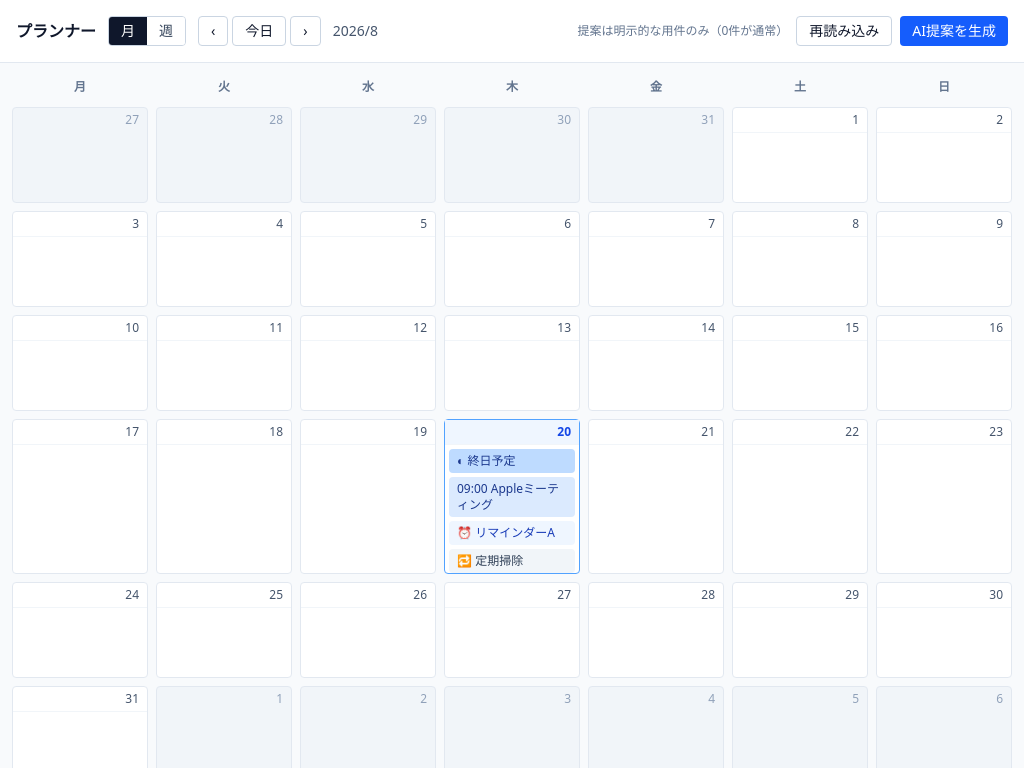
Test: PlannerPage › generates proposals via the generate button
Click the button "AI提案を生成".
click(954, 31)  # box [900, 16, 1008, 46]
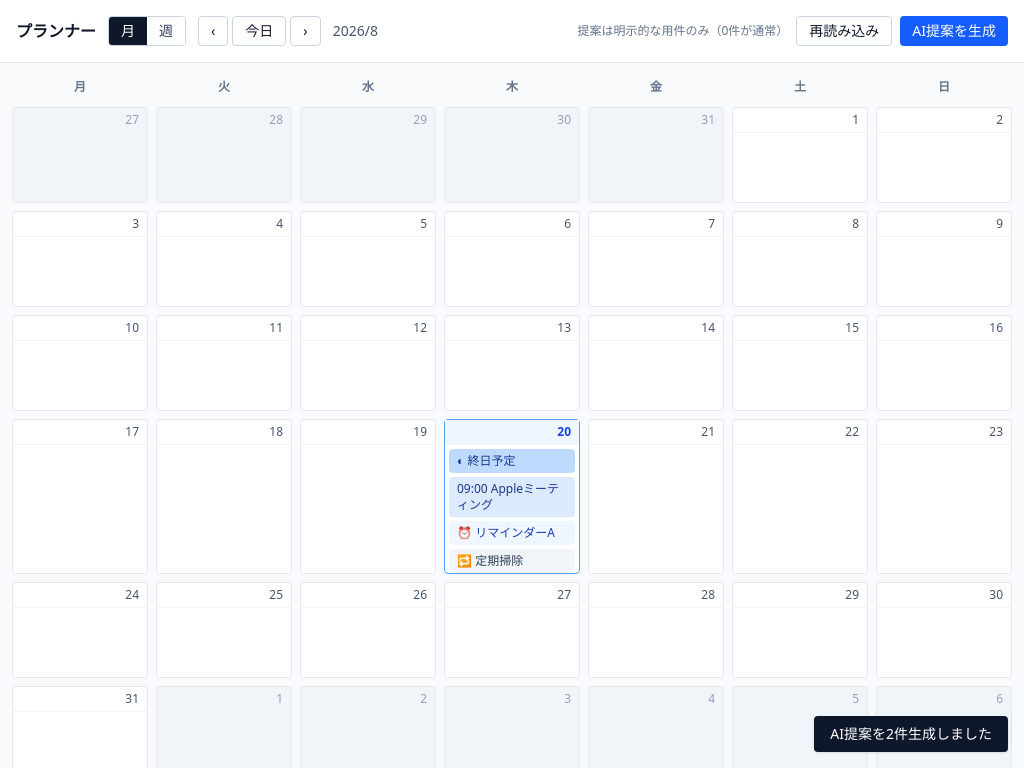
Now the text "AI提案を2件生成しました" is shown, box [814, 716, 1008, 752]
